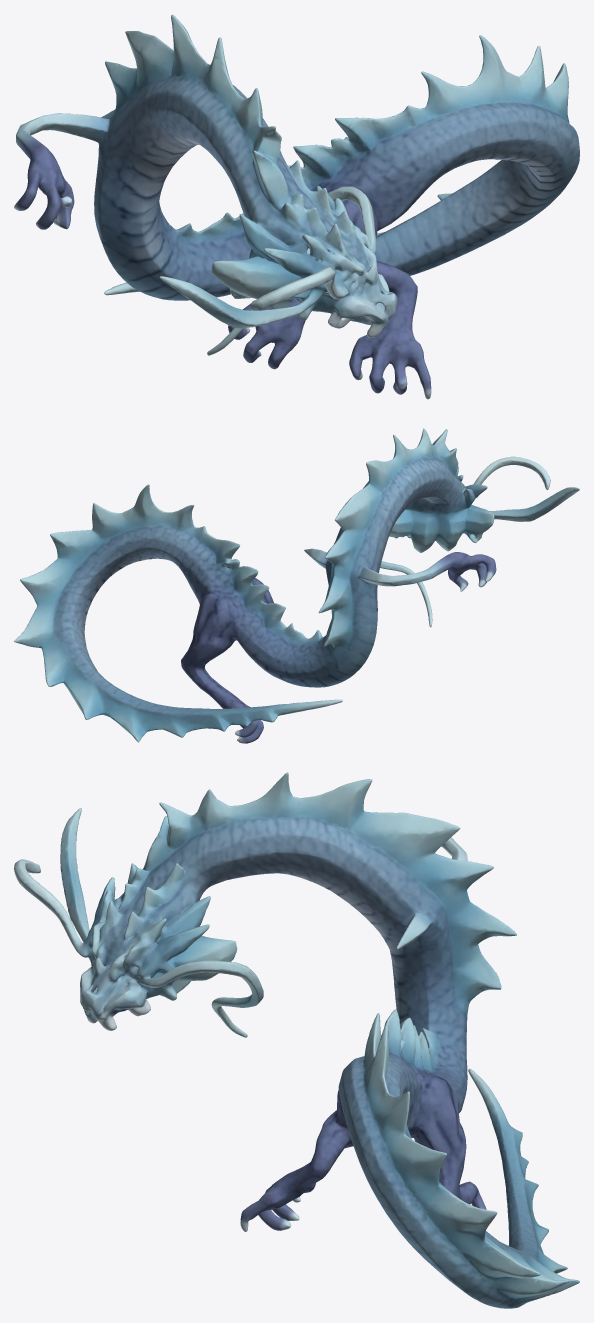
The model's file is dragon.glb.
The picture shows the model from 3 angles, top to bottom: view 1: azimuth 30°, elevation 25°; view 2: azimuth 150°, elevation 25°; view 3: azimuth 270°, elevation 25°; orthographic projection. The views are drawn at different scales.
Parts seen in each view (by area): view 1: geometry_0; view 2: geometry_0; view 3: geometry_0.
Boxes of the visible parts, x1,y1,x2,y2 form: geometry_0: (14,14,579,399); geometry_0: (14,428,579,743); geometry_0: (14,772,579,1308).
Bounding box in the file's own units: 0.9912 × 0.6503 × 0.8193.
1 material, 1 textured.
